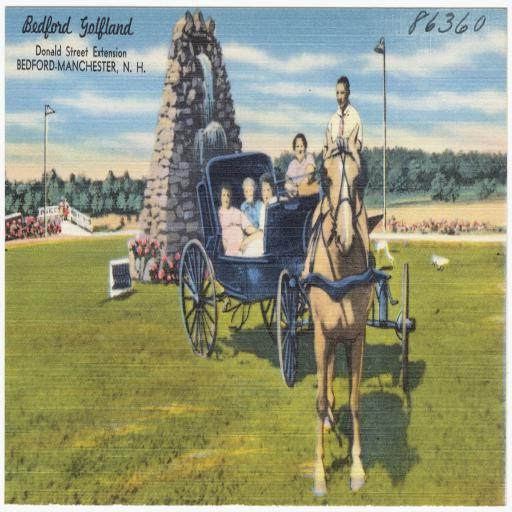horse: (302, 120, 374, 500)
